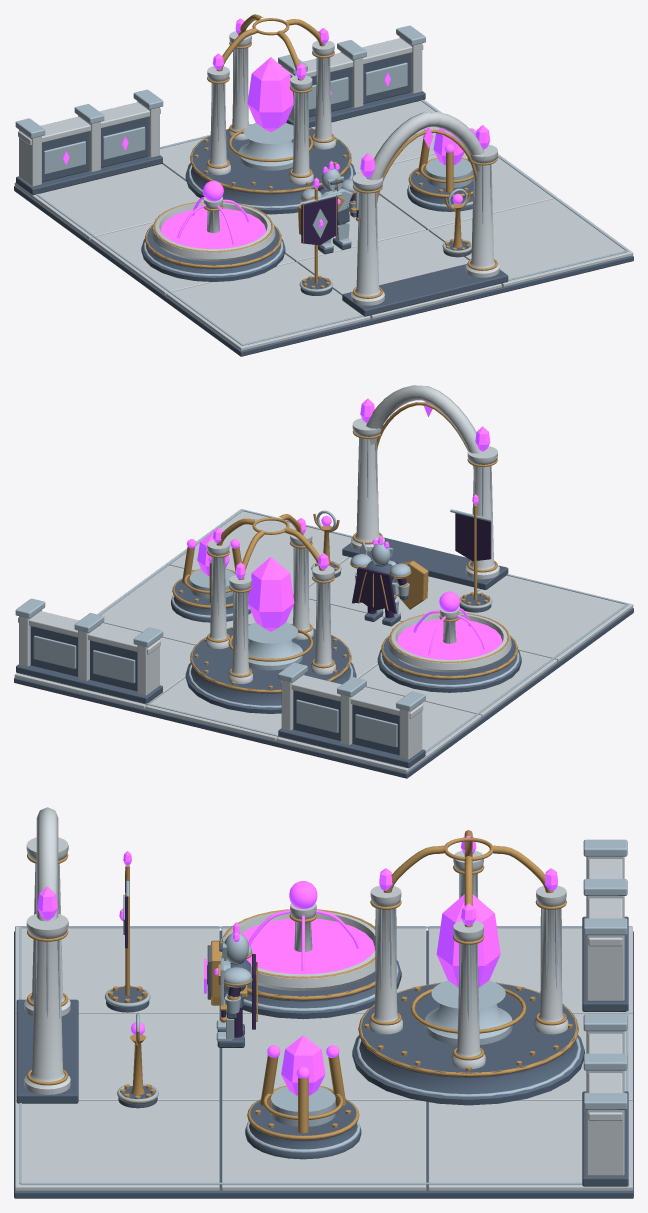
Rendered from moonsteel-convergence-lunar-sanctuary-6d0eac9e-starter-scene__18220.glb.
3 renders of one model, top to bottom at view 1: azimuth 30°, elevation 25°; view 2: azimuth 150°, elevation 25°; view 3: azimuth 270°, elevation 25°, orthographic. The views are drawn at different scales.
Parts seen in each view (by area): view 1: 000-sanctuary-terrace/1, 002-sanctuary-gateway/1, 001-lunar-nexus/4, 001-lunar-nexus/0, 000-sanctuary-terrace/0, 003-courtyard-wall/1, 001-lunar-nexus/1, 005-moonwell-fountain/4, 003-courtyard-wall/0, 002-sanctuary-gateway/0, 003-courtyard-wall/2, 001-lunar-nexus/2 (+21 smaller); view 2: 000-sanctuary-terrace/1, 002-sanctuary-gateway/1, 001-lunar-nexus/4, 001-lunar-nexus/0, 003-courtyard-wall/1, 000-sanctuary-terrace/0, 004-courtyard-wall/1, 001-lunar-nexus/1, 005-moonwell-fountain/4, 003-courtyard-wall/0, 004-courtyard-wall/0, 004-courtyard-wall/2 (+20 smaller); view 3: 000-sanctuary-terrace/1, 001-lunar-nexus/0, 001-lunar-nexus/4, 002-sanctuary-gateway/1, 000-sanctuary-terrace/0, 005-moonwell-fountain/4, 001-lunar-nexus/1, 001-lunar-nexus/2, 003-courtyard-wall/1, 004-courtyard-wall/1, 001-lunar-nexus/3, 005-moonwell-fountain/3 (+22 smaller).
Part boxes in pixels (<box>): 000-sanctuary-terrace/1: <box>14,100,633,350</box>; 002-sanctuary-gateway/1: <box>351,112,499,305</box>; 001-lunar-nexus/4: <box>206,31,335,184</box>; 001-lunar-nexus/0: <box>185,124,355,214</box>; 000-sanctuary-terrace/0: <box>14,186,633,356</box>; 003-courtyard-wall/1: <box>18,101,160,186</box>; 001-lunar-nexus/1: <box>188,48,353,208</box>; 005-moonwell-fountain/4: <box>160,180,265,248</box>; 003-courtyard-wall/0: <box>16,117,162,195</box>; 002-sanctuary-gateway/0: <box>342,264,508,316</box>; 003-courtyard-wall/2: <box>15,89,163,174</box>; 001-lunar-nexus/2: <box>190,14,351,193</box>; 000-sanctuary-terrace/1: <box>14,509,633,772</box>; 002-sanctuary-gateway/1: <box>351,385,499,579</box>; 001-lunar-nexus/4: <box>206,530,335,684</box>; 001-lunar-nexus/0: <box>185,624,356,713</box>; 003-courtyard-wall/1: <box>280,674,423,759</box>; 000-sanctuary-terrace/0: <box>14,608,633,778</box>; 004-courtyard-wall/1: <box>18,610,160,695</box>; 001-lunar-nexus/1: <box>188,547,353,707</box>; 005-moonwell-fountain/4: <box>397,591,502,659</box>; 003-courtyard-wall/0: <box>278,690,425,768</box>; 004-courtyard-wall/0: <box>16,626,162,703</box>; 004-courtyard-wall/2: <box>15,598,163,683</box>; 000-sanctuary-terrace/1: <box>15,926,632,1190</box>; 001-lunar-nexus/0: <box>352,982,584,1105</box>; 001-lunar-nexus/4: <box>369,850,568,1069</box>; 002-sanctuary-gateway/1: <box>24,807,70,1094</box>; 000-sanctuary-terrace/0: <box>14,930,633,1198</box>; 005-moonwell-fountain/4: <box>241,881,374,974</box>; 001-lunar-nexus/1: <box>356,873,580,1096</box>; 001-lunar-nexus/2: <box>358,830,578,1076</box>; 003-courtyard-wall/1: <box>586,856,624,1001</box>; 004-courtyard-wall/1: <box>586,1031,624,1176</box>; 001-lunar-nexus/3: <box>379,835,557,987</box>; 005-moonwell-fountain/3: <box>221,903,375,990</box>.
Size of the model in its own units: 12.05 by 5.47 by 12.
